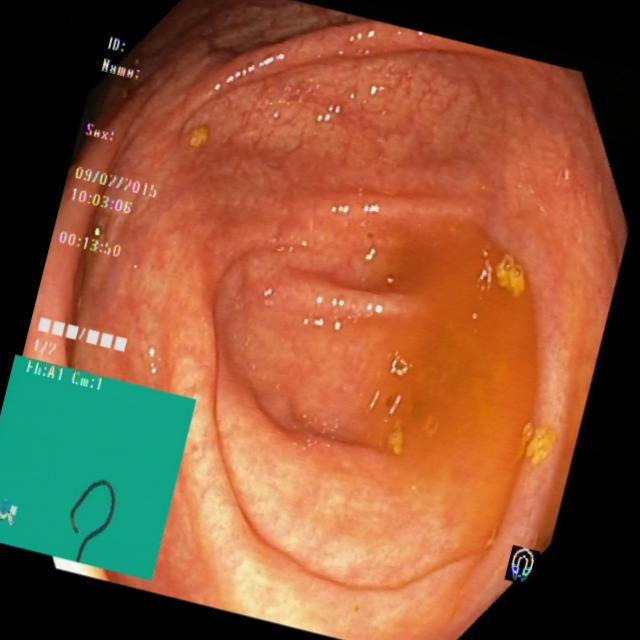normal-cecum: (353, 193, 565, 573), (165, 94, 220, 156)
